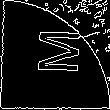M_W: (29, 31, 81, 79)
